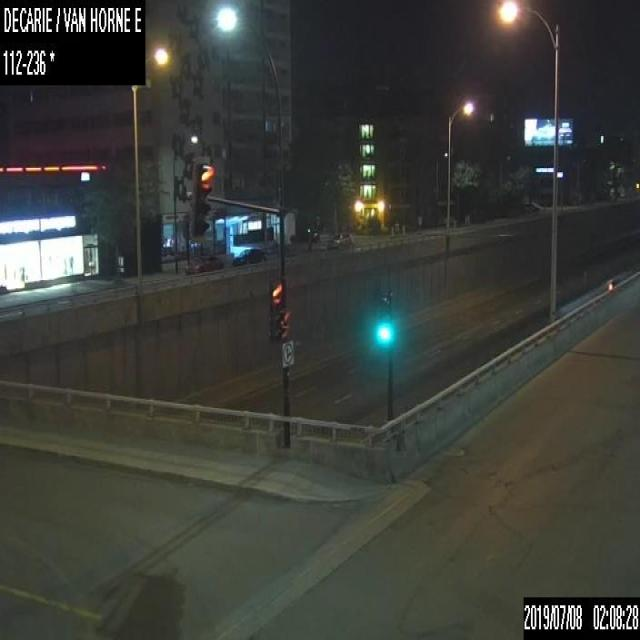vehicle: (184, 252, 224, 272), (231, 245, 267, 264), (325, 232, 352, 248)
